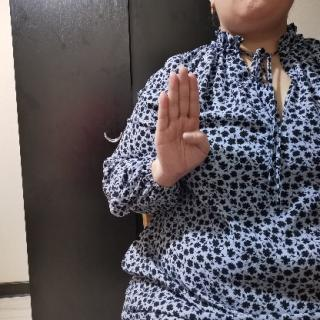KAAF: (152, 63, 216, 193)
